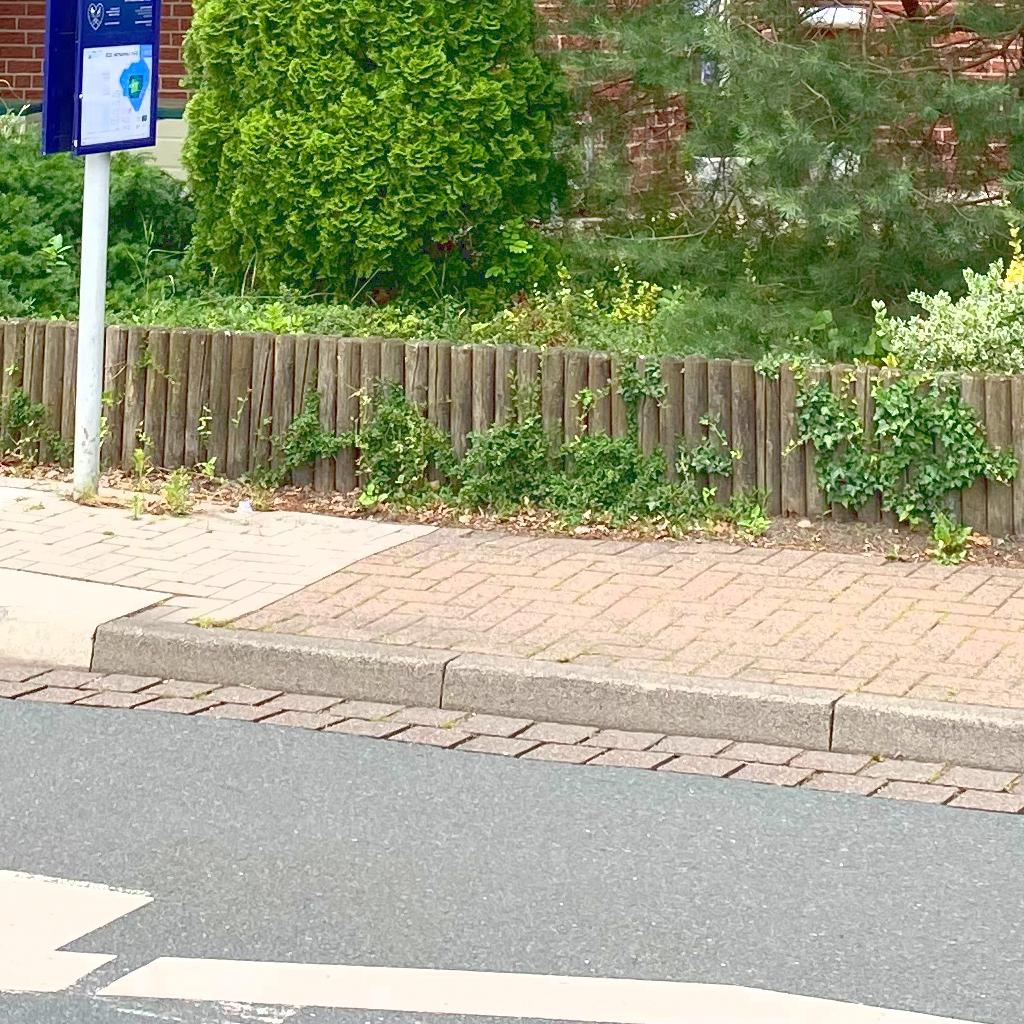tree: (560, 1, 1024, 358), (178, 1, 583, 300)
